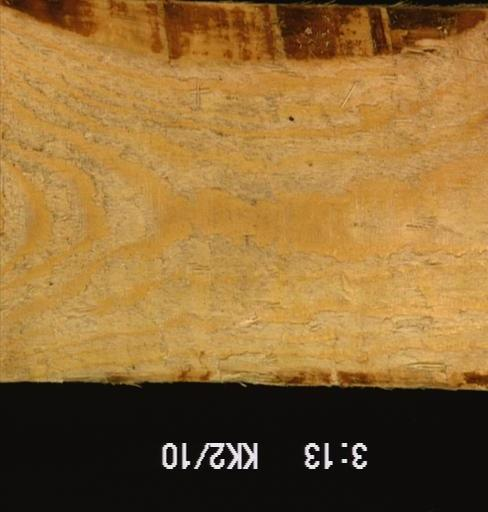wave: (0, 0, 486, 64), (60, 360, 485, 396)
